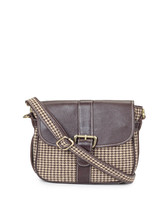bag: (20, 93, 148, 188)
